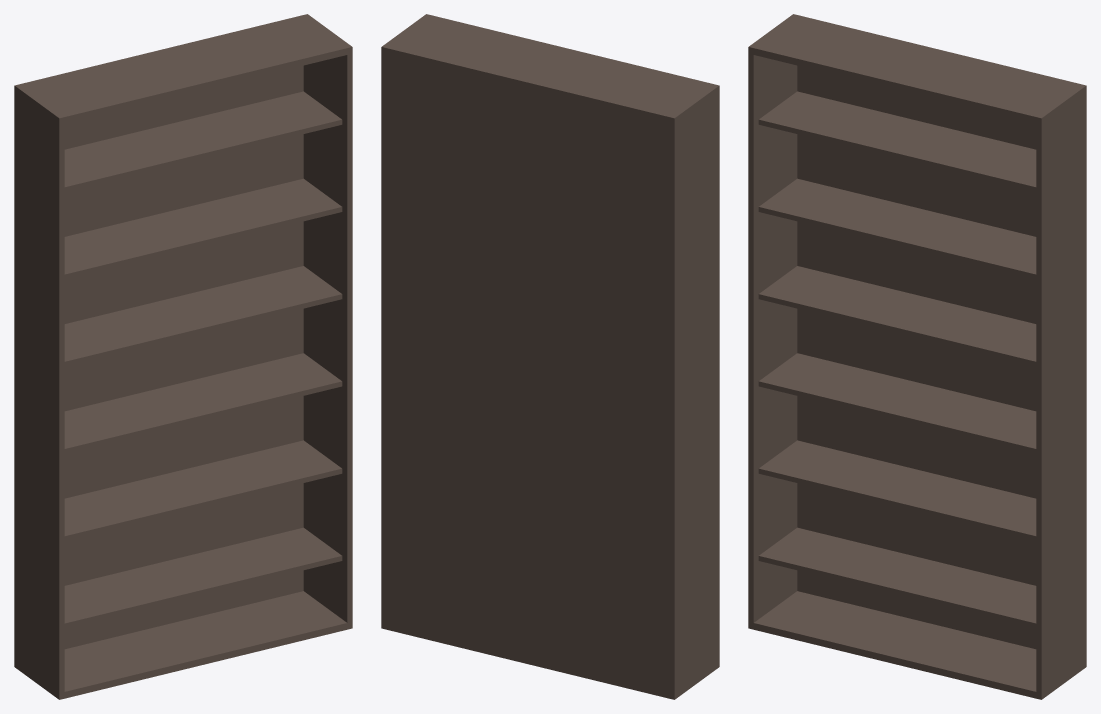
Rendered from Bookcase1.fbx.glb.
3 views of the same model, side by side, from view 1: azimuth 30°, elevation 25°; view 2: azimuth 150°, elevation 25°; view 3: azimuth 330°, elevation 25° (orthographic).
Visible parts, largest first — view 1: Bookcase1.1; view 2: Bookcase1.1; view 3: Bookcase1.1.
Boxes of the visible parts, <box> form: Bookcase1.1: <box>14,14,352,699</box>; Bookcase1.1: <box>381,14,719,699</box>; Bookcase1.1: <box>748,14,1086,699</box>.
Bounding box in the file's own units: 113 × 215 × 30.07.
